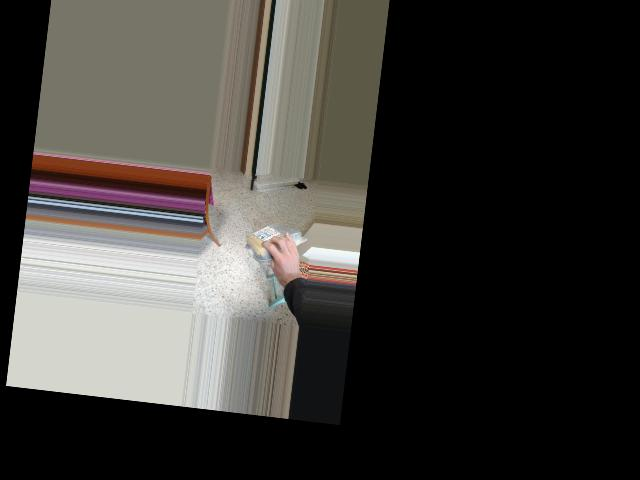cheese: (239, 222, 304, 258)
